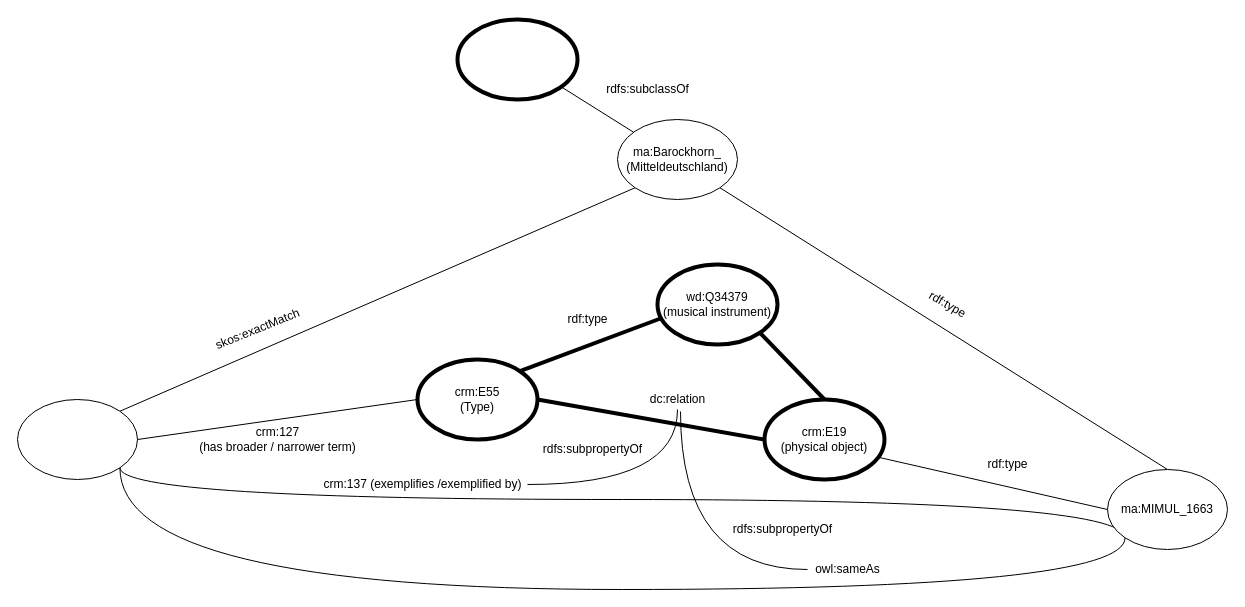
Some shapes in this 1245 by 607 pixel diagram are drawn without their labels. The shapes that lost their labels are listed below. From the top down, each one's centre as x and y in pixels, then its label:
At [517,59]: "mus:M14 (medium of performance)".
At [77,439]: "rism:corDaCaccia".
